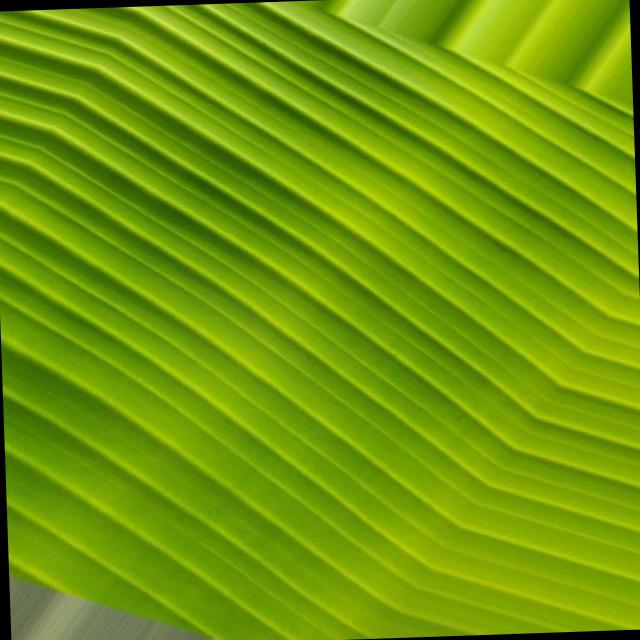Banana_Healthy: (136, 128, 554, 529)
